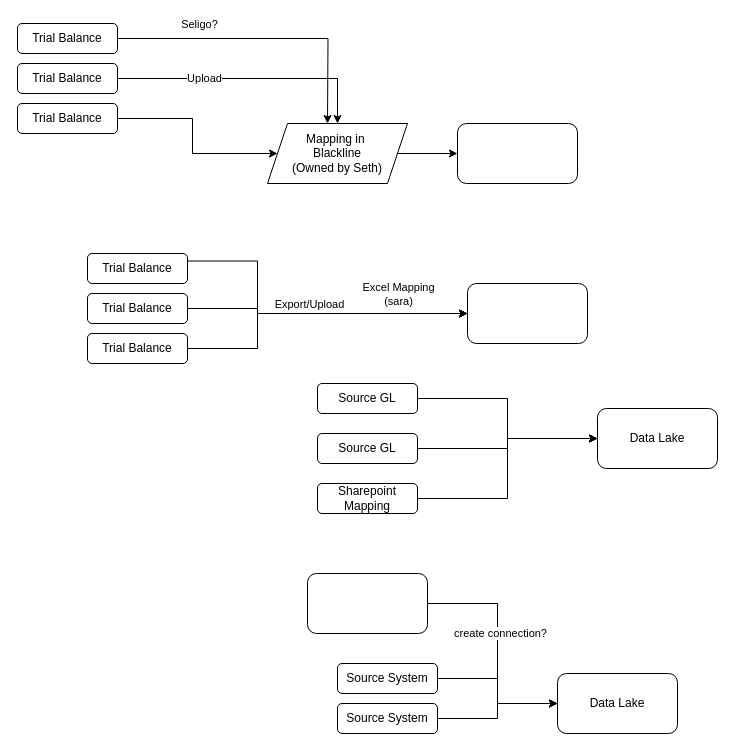
This 735x751 diagram has some shape labels left out. The shapes that lost their labels are listed below. From the top down, each one's centre as x and y in pixels, then its label:
At point 517,153: "Blackline".
At point 527,313: "Adaptive".
At point 367,603: "Blackline (Mapping only)".
